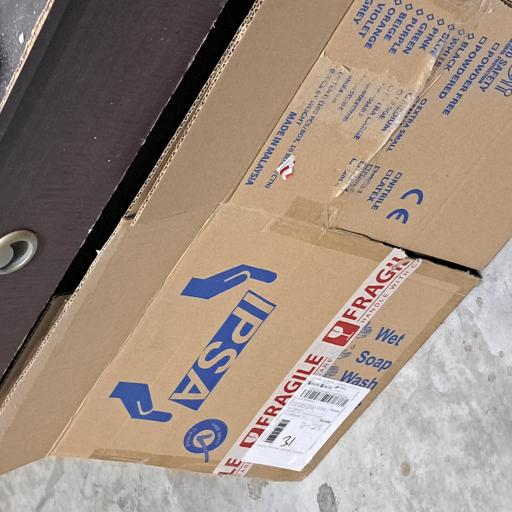cardboard: (23, 0, 384, 512)
